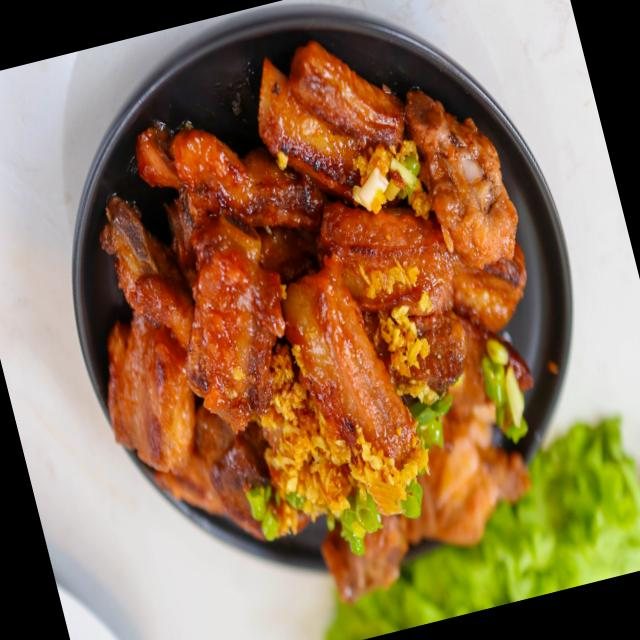suon xao: (100, 42, 531, 552)
